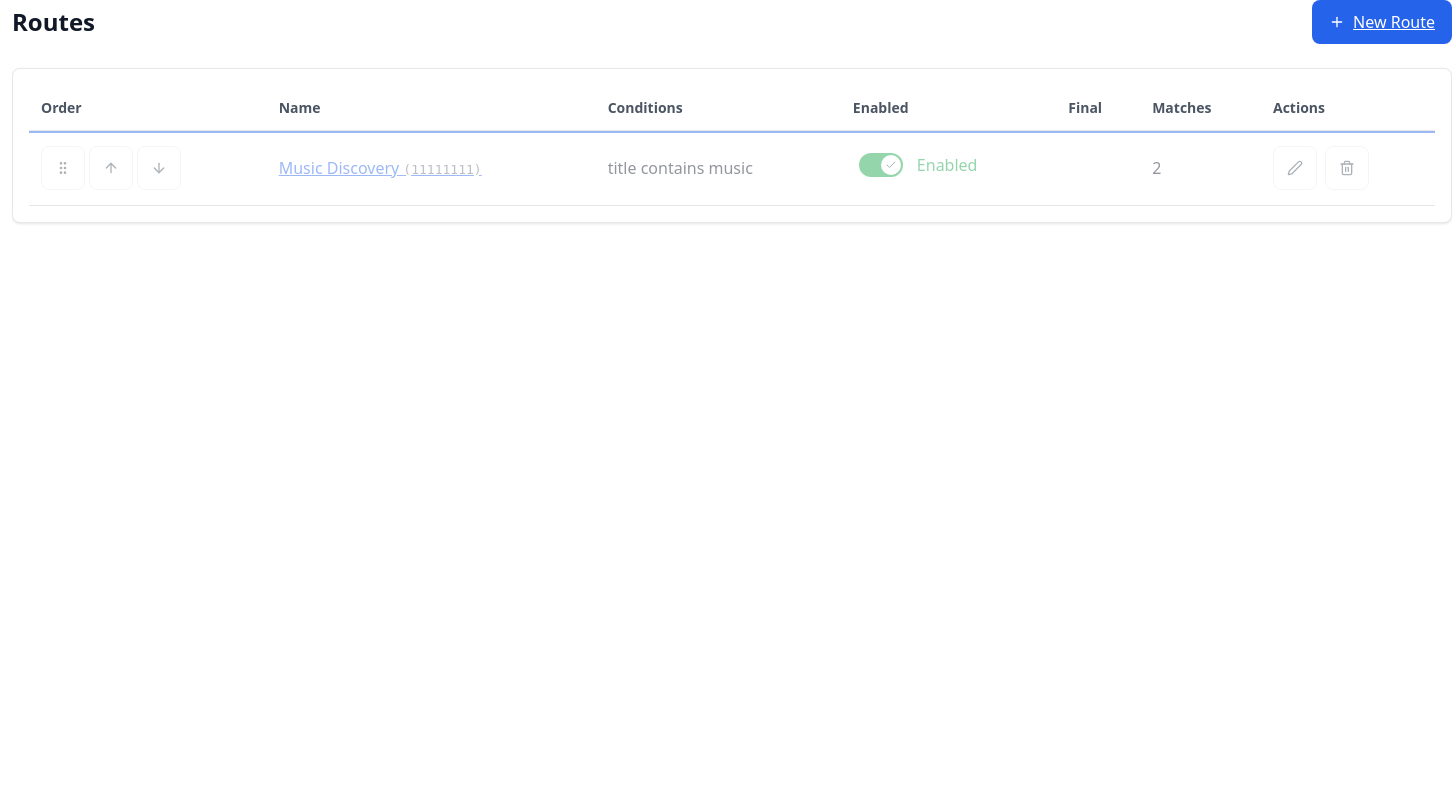
Test: RoutesView › shows a toast and reverts when toggling enabled fails
Check: the link "Music Discovery (11111111)" is shown, box [279, 157, 482, 179]
Click the switch at (918, 165), box [859, 153, 978, 177]
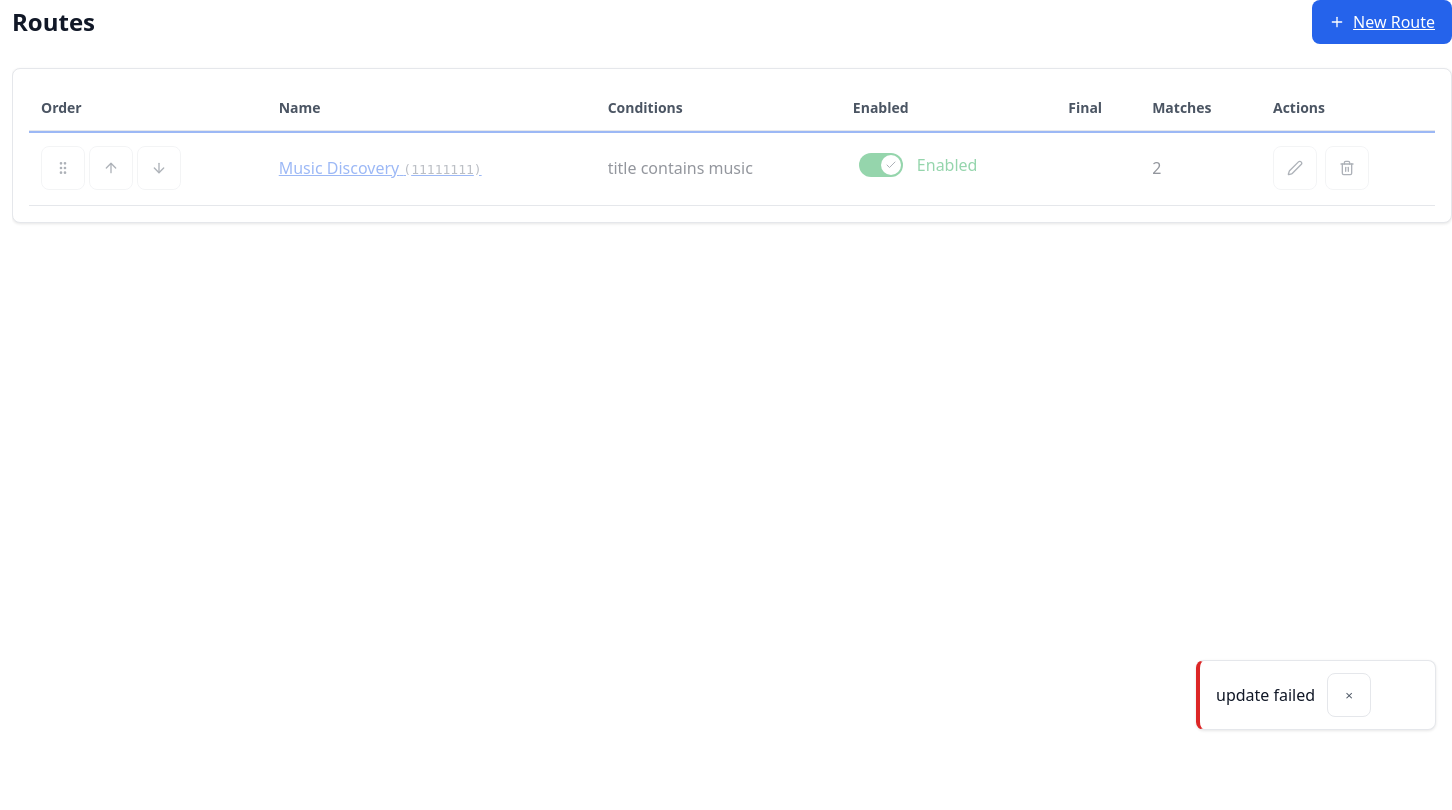
Check: the message with class "toast" shows "update failed", box [1216, 684, 1315, 706]
